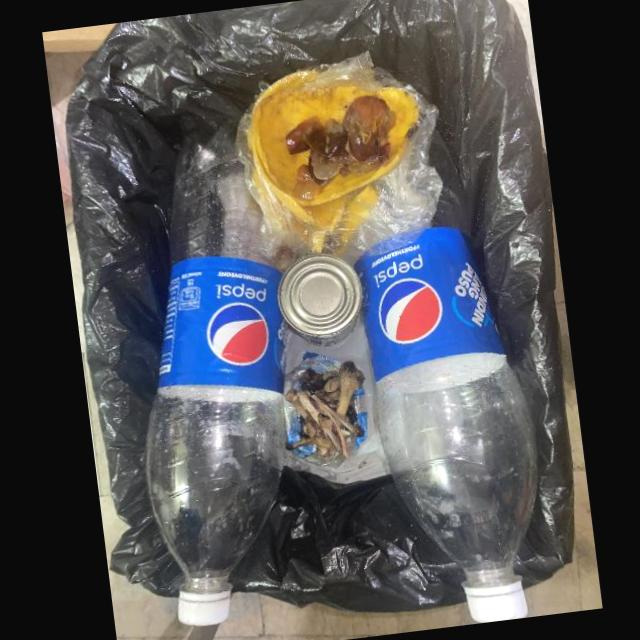chai_nhua_pet: (144, 118, 292, 625), (354, 224, 538, 623)
nhom: (277, 253, 362, 346)
thuc_an_thua: (284, 360, 365, 463)
tui_ni_long: (235, 50, 442, 262)
vo_trai_cay: (248, 69, 419, 206), (285, 95, 396, 199)
